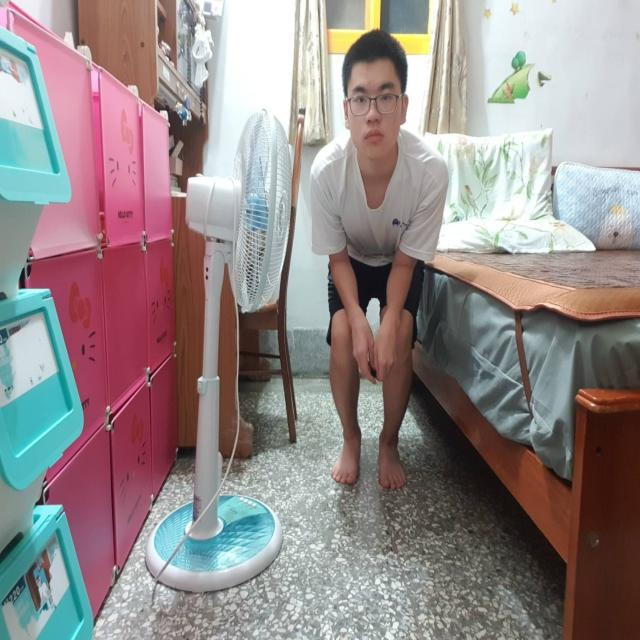sit: (310, 0, 443, 533)
